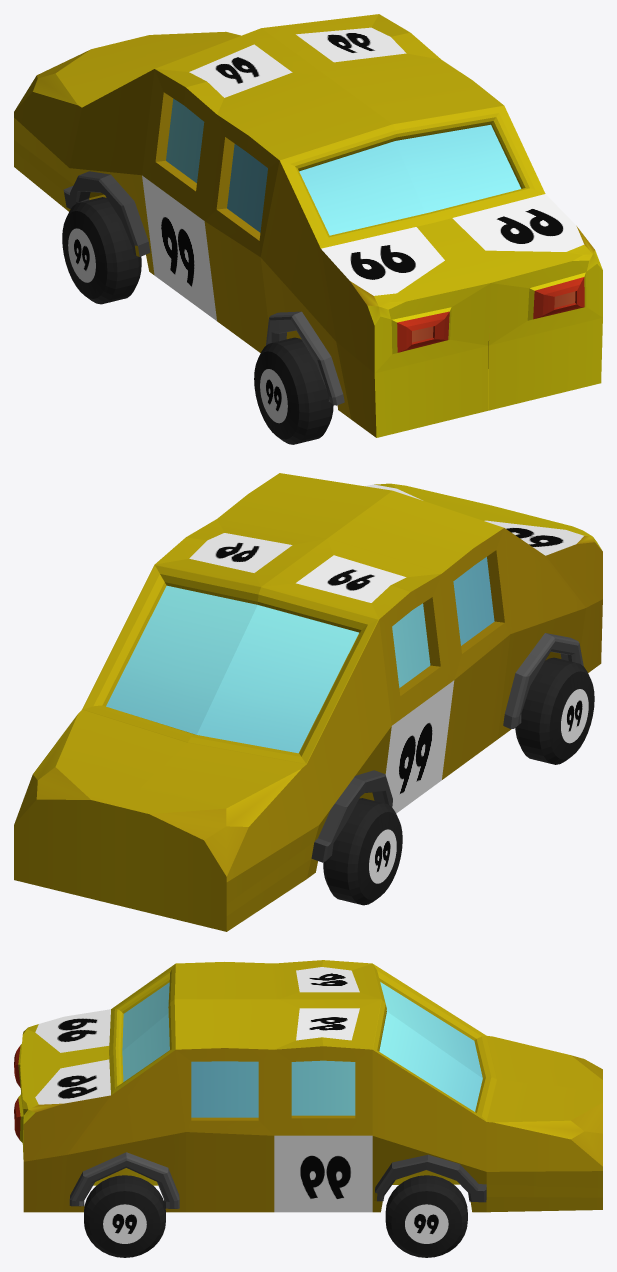
Rendered from car test0.fbx.
The picture shows the model from 3 angles, top to bottom: view 1: azimuth 30°, elevation 25°; view 2: azimuth 150°, elevation 25°; view 3: azimuth 270°, elevation 25°; orthographic projection. The views are drawn at different scales.
Visible parts, largest first — view 1: Cube, Cylinder.003, Cylinder.004; view 2: Cube, Cylinder.003, Cylinder.004; view 3: Cube, Cylinder.001, Cylinder.002.
Boxes of the visible parts, x1,y1,x2,y2 form: Cube: (14,14,602,437); Cylinder.003: (254,337,333,444); Cylinder.004: (62,197,141,304); Cube: (14,473,602,931); Cylinder.003: (515,657,594,764); Cylinder.004: (323,798,402,905); Cube: (14,960,602,1212); Cylinder.001: (385,1175,467,1257); Cylinder.002: (84,1175,165,1257).
Size of the model in its own units: 7.22 by 5.91 by 15.48.
1 material, 1 textured.
